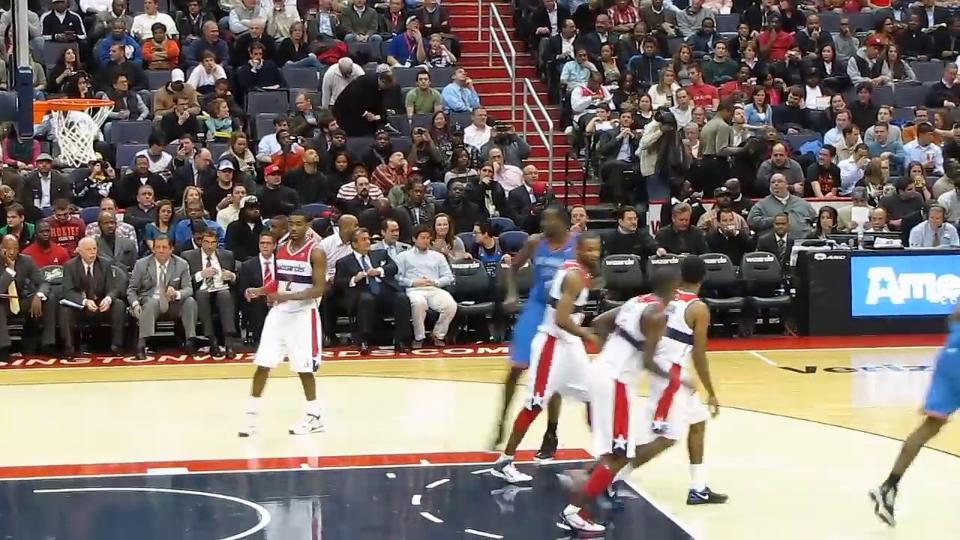hoop: (27, 93, 116, 120)
